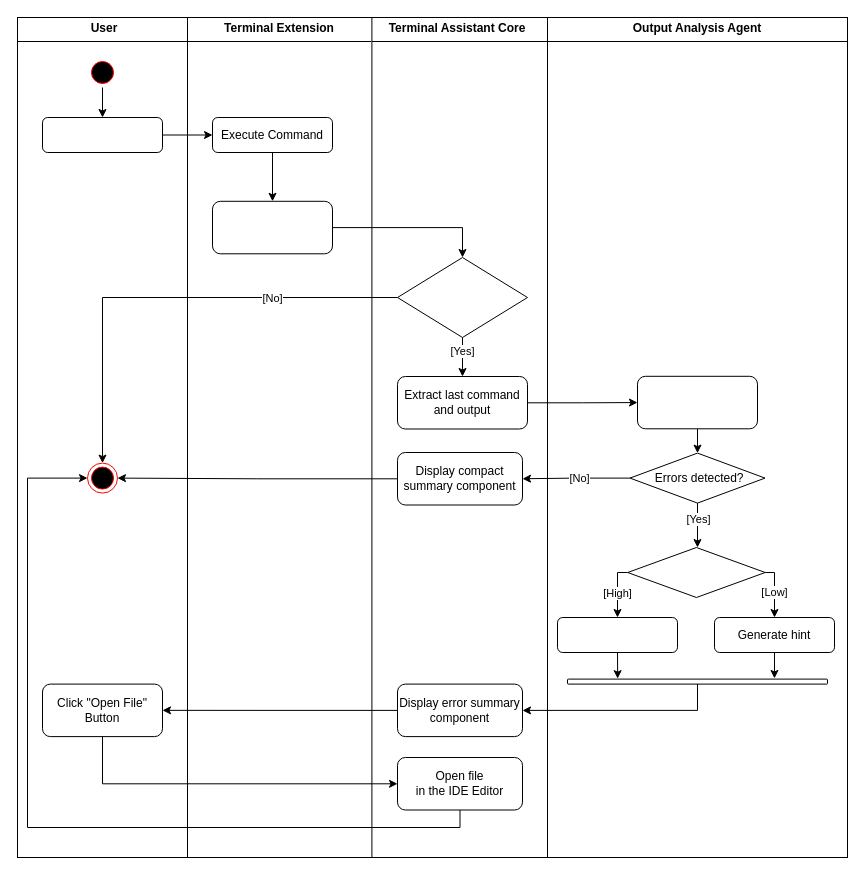
The diagram is 865 pixels wide and 875 high, and some of its shapes have lost their labels. The shapes that lost their labels are listed below. From the top down, each one's centre as x and y in pixels, then its label:
the point at 102,134: Trigger Command
the point at 272,227: Display raw command o utput
the point at 462,297: Is AI asisstance enabled?
the point at 697,402: Evaluate command and output
the point at 696,572: Assistance level
the point at 617,634: Generate solution
